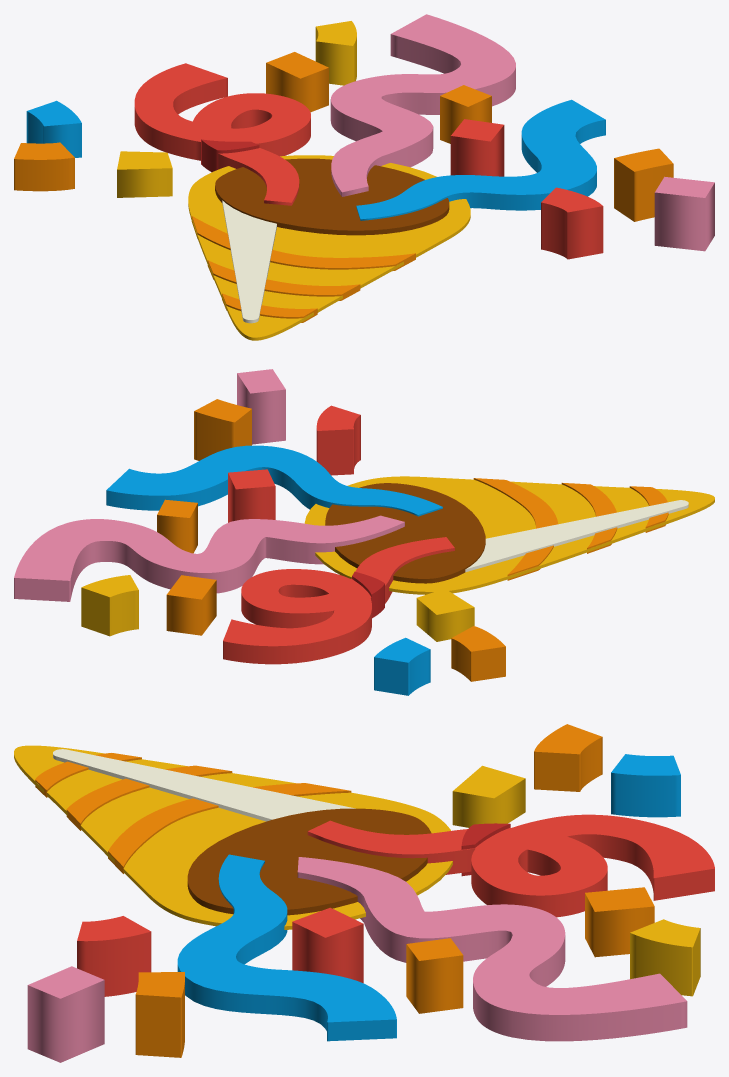
The model's file is emoji_u1f389.glb.
3 renders of one model, top to bottom at view 1: azimuth 30°, elevation 25°; view 2: azimuth 150°, elevation 25°; view 3: azimuth 270°, elevation 25°, orthographic. The views are drawn at different scales.
Visible parts, largest first — view 1: emoji_u1f389; view 2: emoji_u1f389; view 3: emoji_u1f389.
Boxes of the visible parts, left/top/right/bottom form: emoji_u1f389: left=14, top=14, right=714, bottom=340; emoji_u1f389: left=14, top=369, right=714, bottom=695; emoji_u1f389: left=14, top=724, right=714, bottom=1062.
Bounding box in the file's own units: 0.0329 × 0.0036 × 0.0337.
